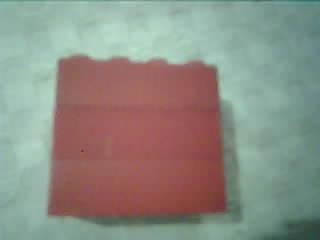lego: (44, 53, 227, 219)
